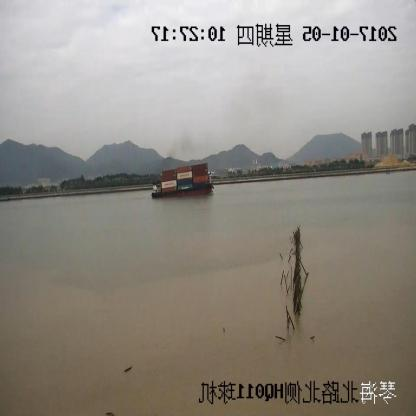Container Ship: (152, 163, 216, 199)
